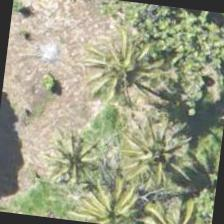Kelapa_Sawit: (108, 115, 208, 215), (82, 20, 182, 120), (29, 110, 129, 210), (71, 25, 170, 125), (75, 166, 172, 223)
